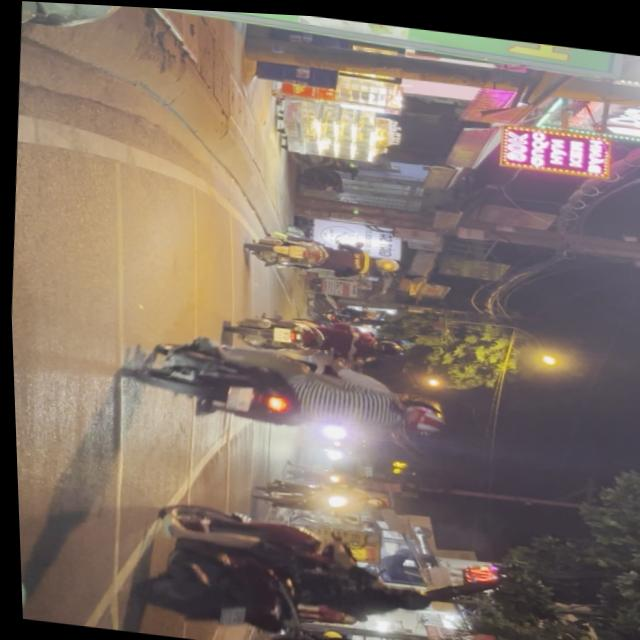helmet: (391, 395, 446, 431), (381, 578, 428, 611)
licenseplate: (125, 486, 435, 640), (120, 326, 463, 449)
nohelmet: (221, 381, 250, 408), (214, 601, 241, 624)
